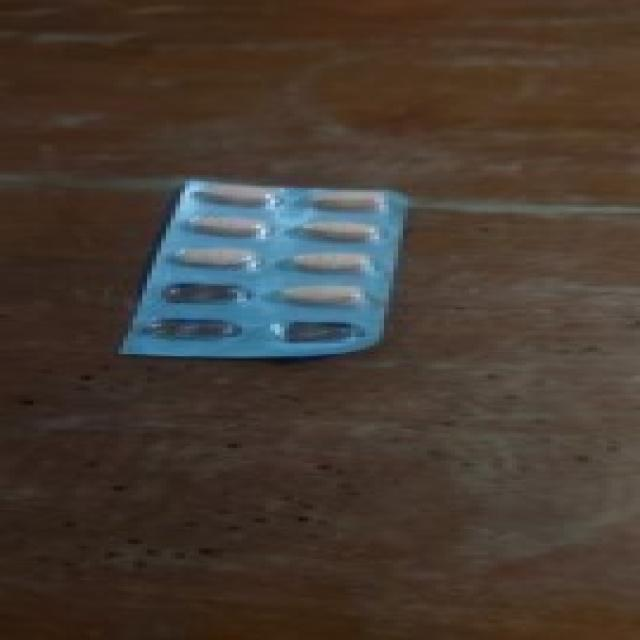Cacat: (112, 177, 400, 359)
Kemasan: (155, 275, 244, 348), (268, 312, 377, 350)
